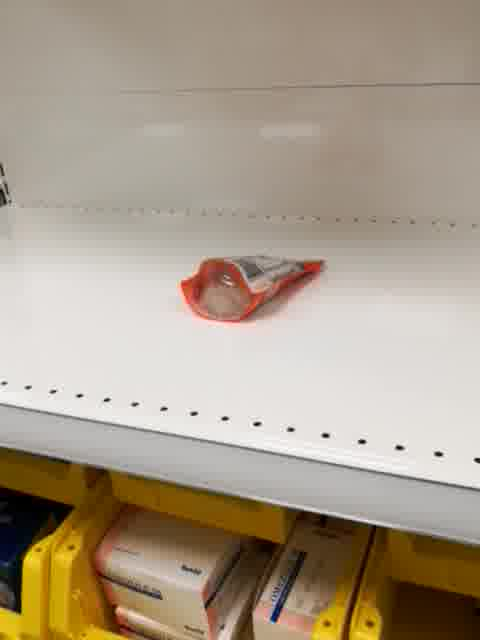whitechia: (176, 252, 326, 324)
